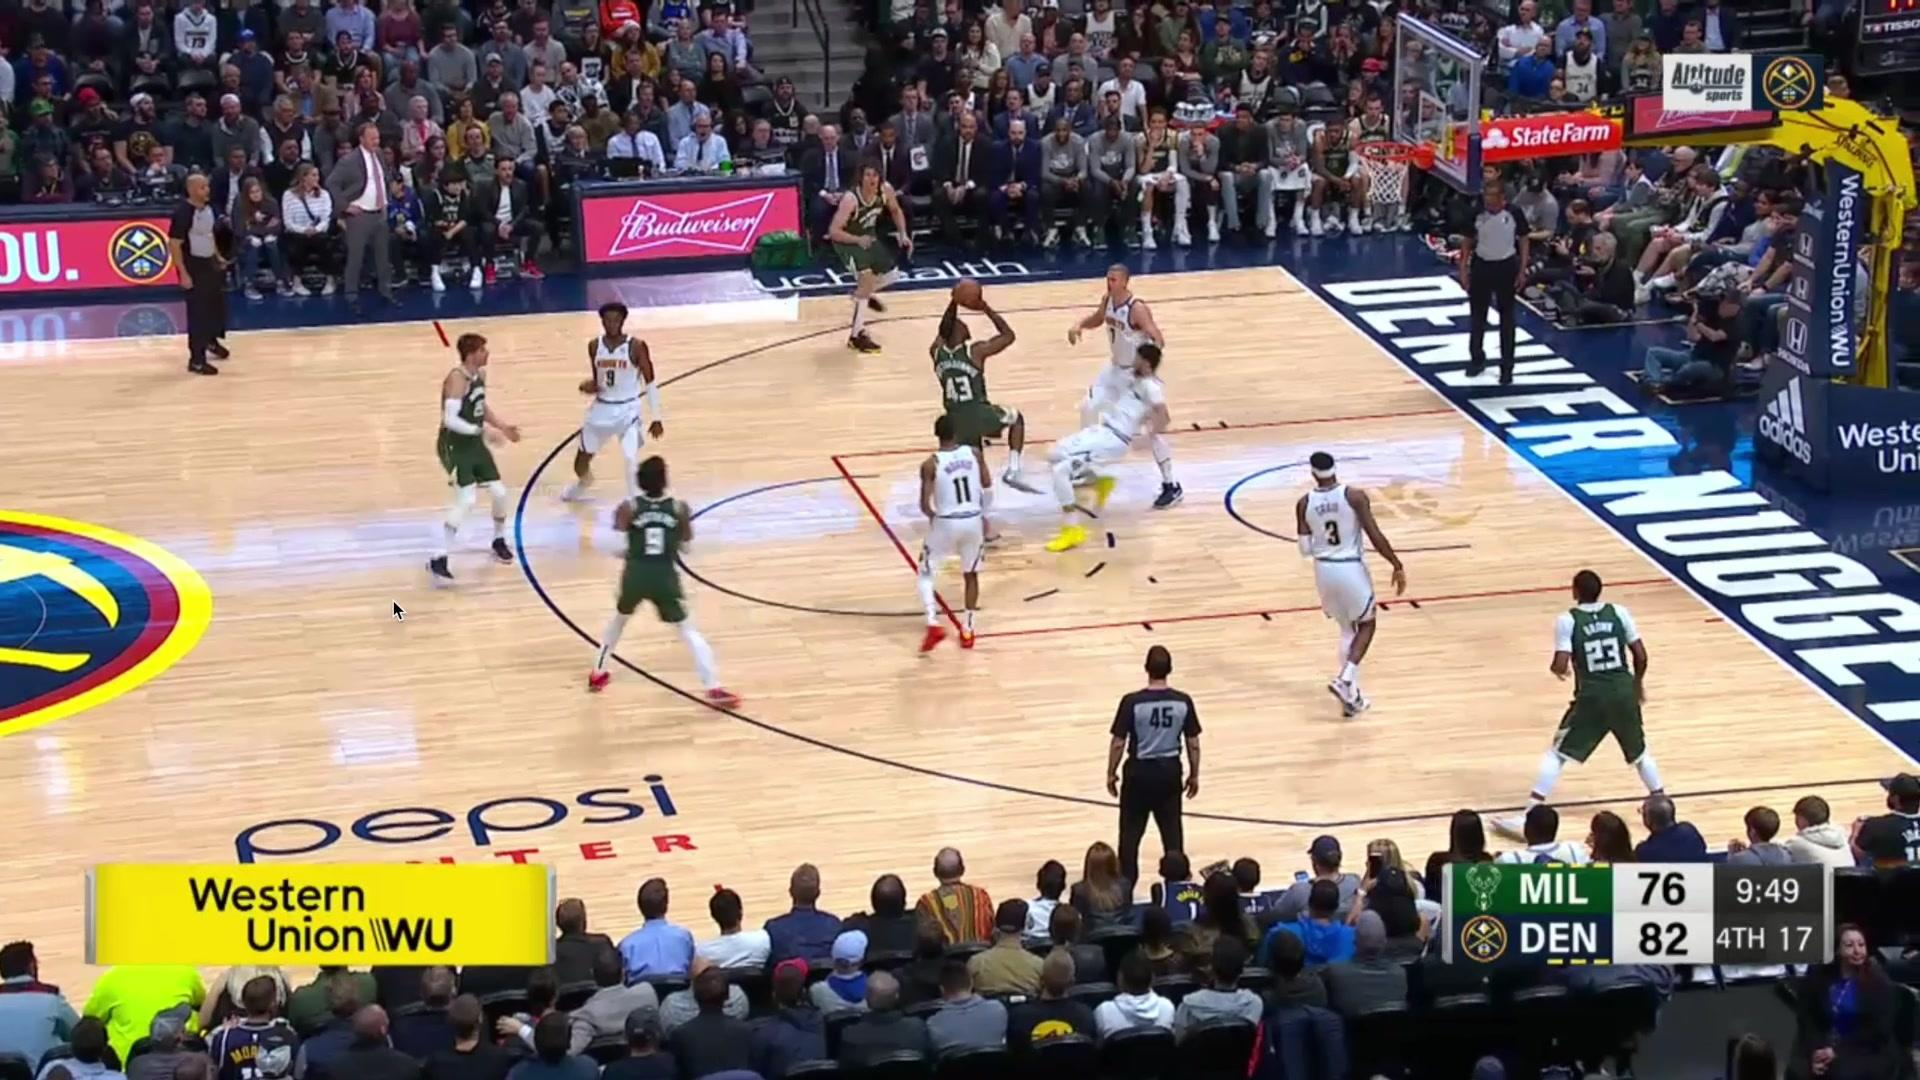no_foul: (934, 298, 1168, 467)
